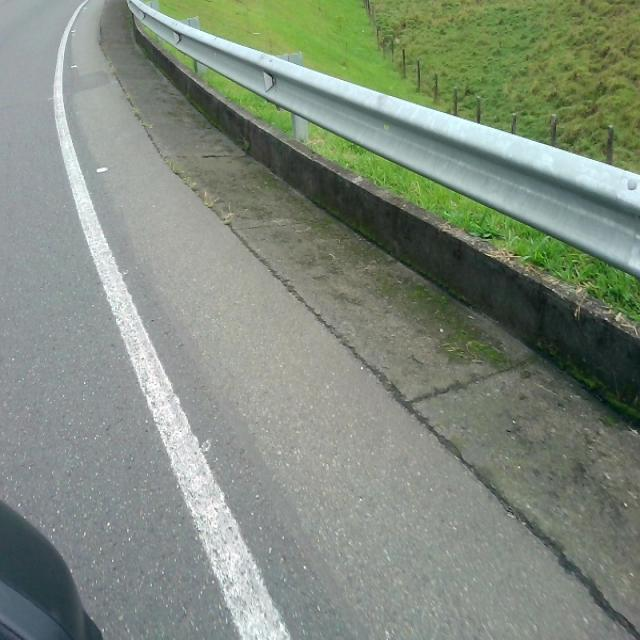DITCH: (71, 1, 638, 638)
